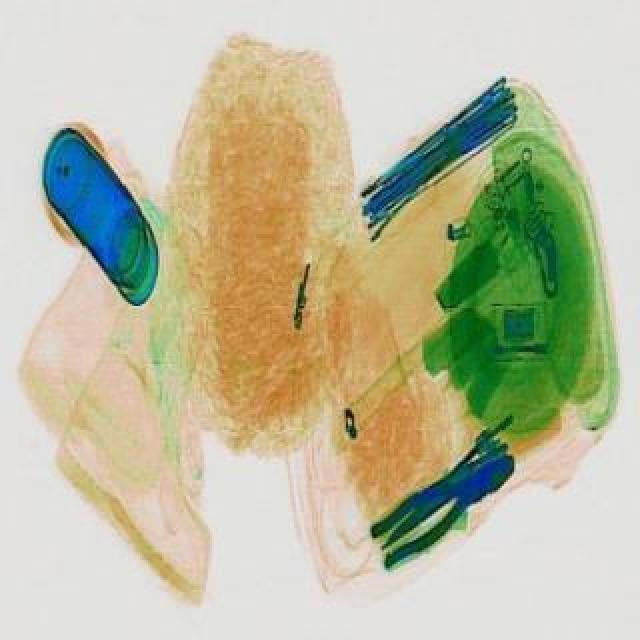wrench: (360, 442, 534, 574)
